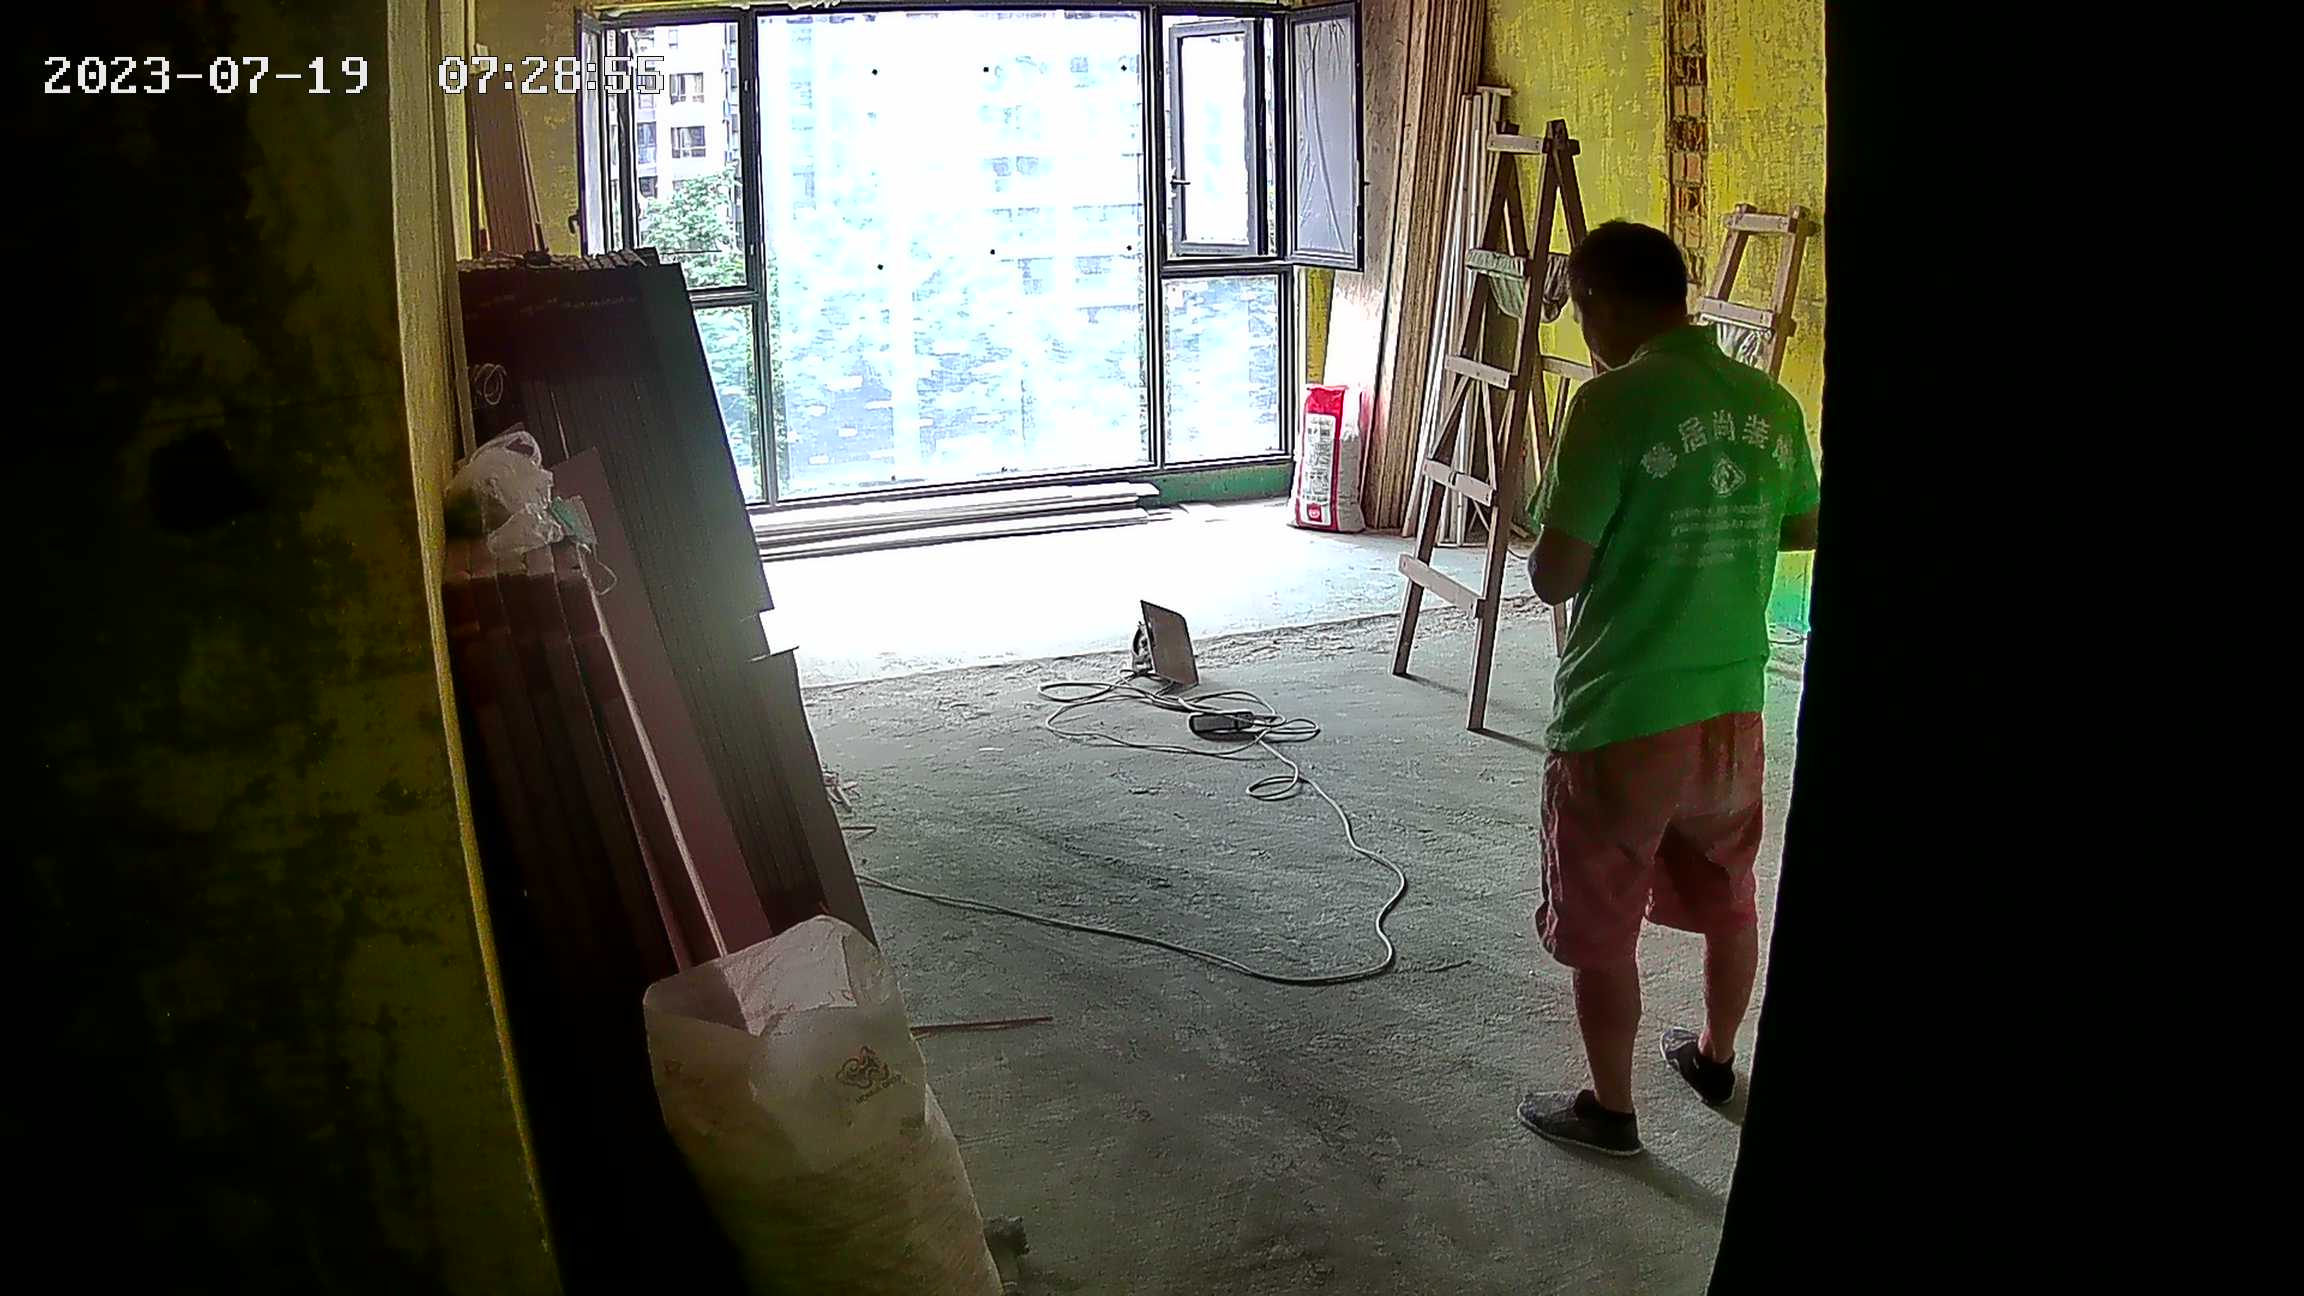people: (1538, 220, 1798, 1175)
window: (578, 11, 1297, 480)
